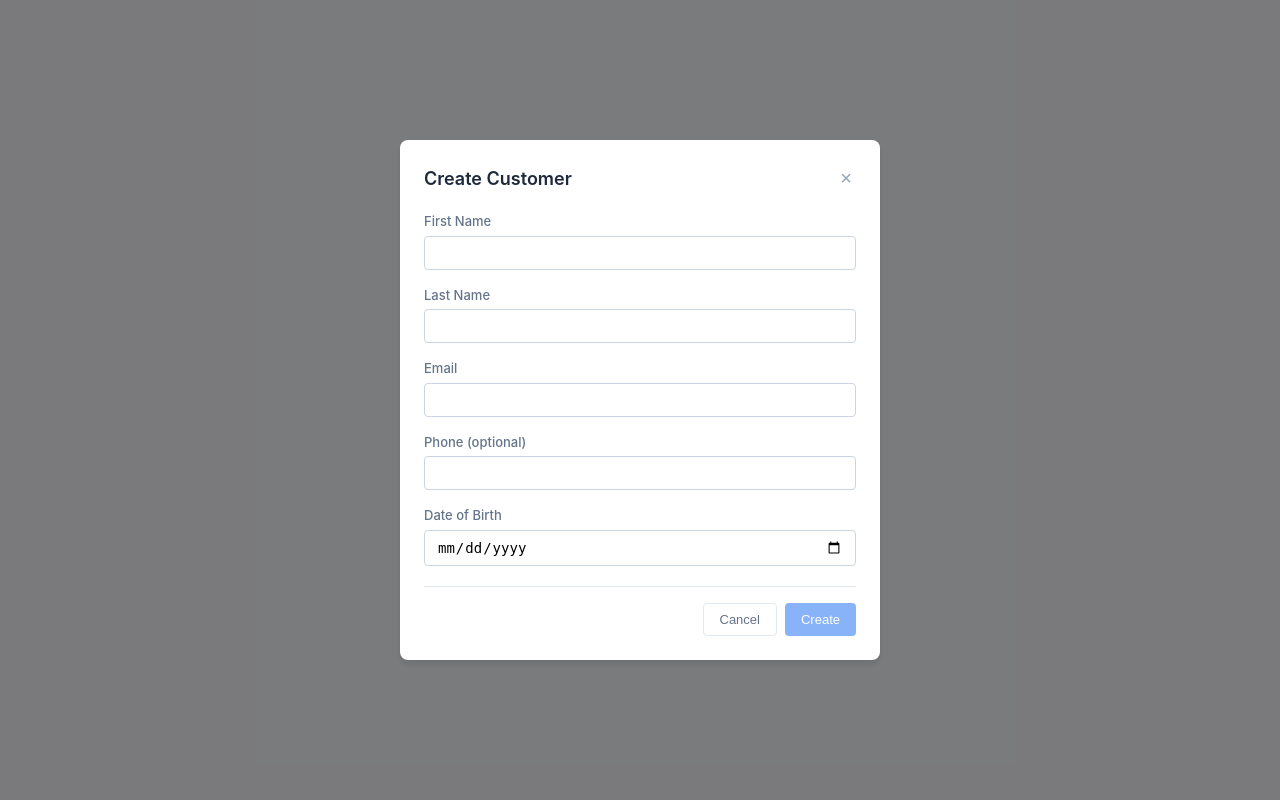
CustomerFormModal › shows error on submit failure
This screenshot has width=1280, height=800.
Type "Bob" into the field labelled "First Name" at (640, 253), box 424,236 -> 856,270
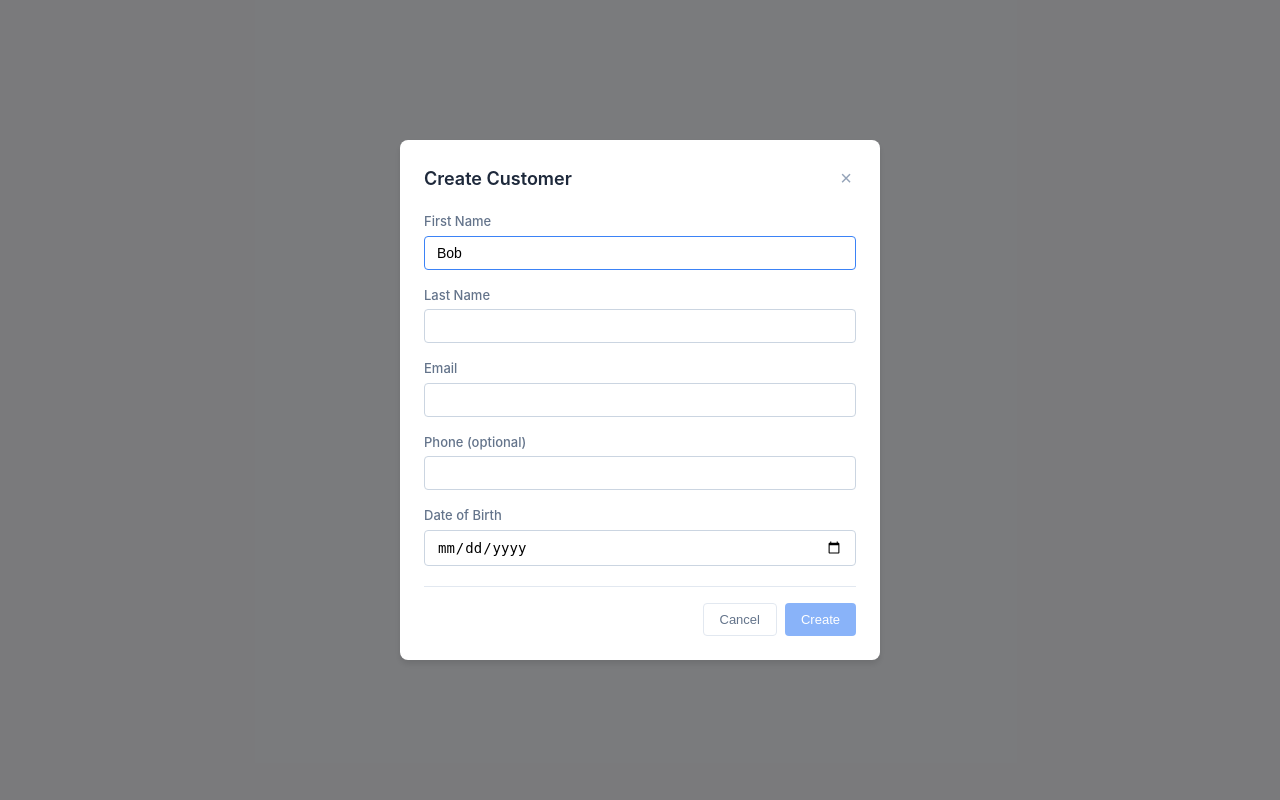
Type "Smith" into the field labelled "Last Name" at (640, 326), box 424,309 -> 856,343
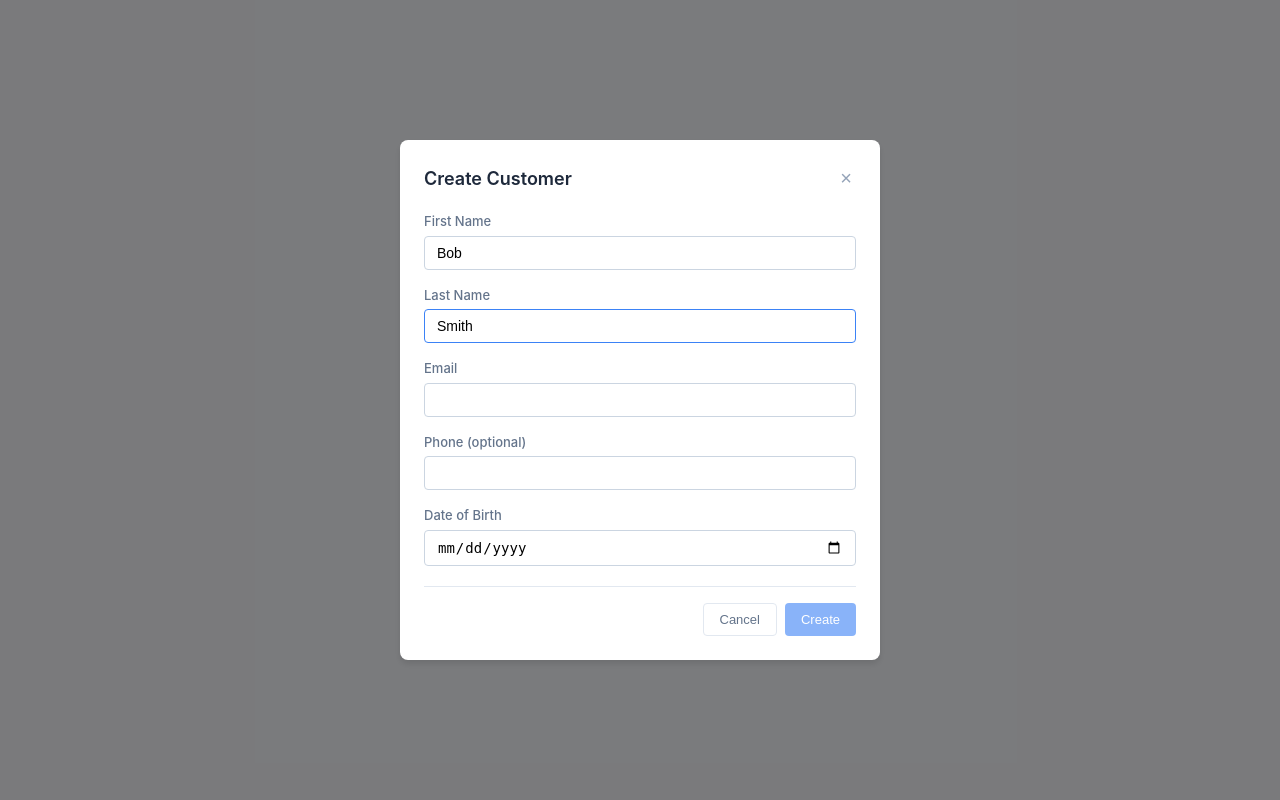
Type "bob@test.com" into the field labelled "Email" at (640, 400), box 424,383 -> 856,417
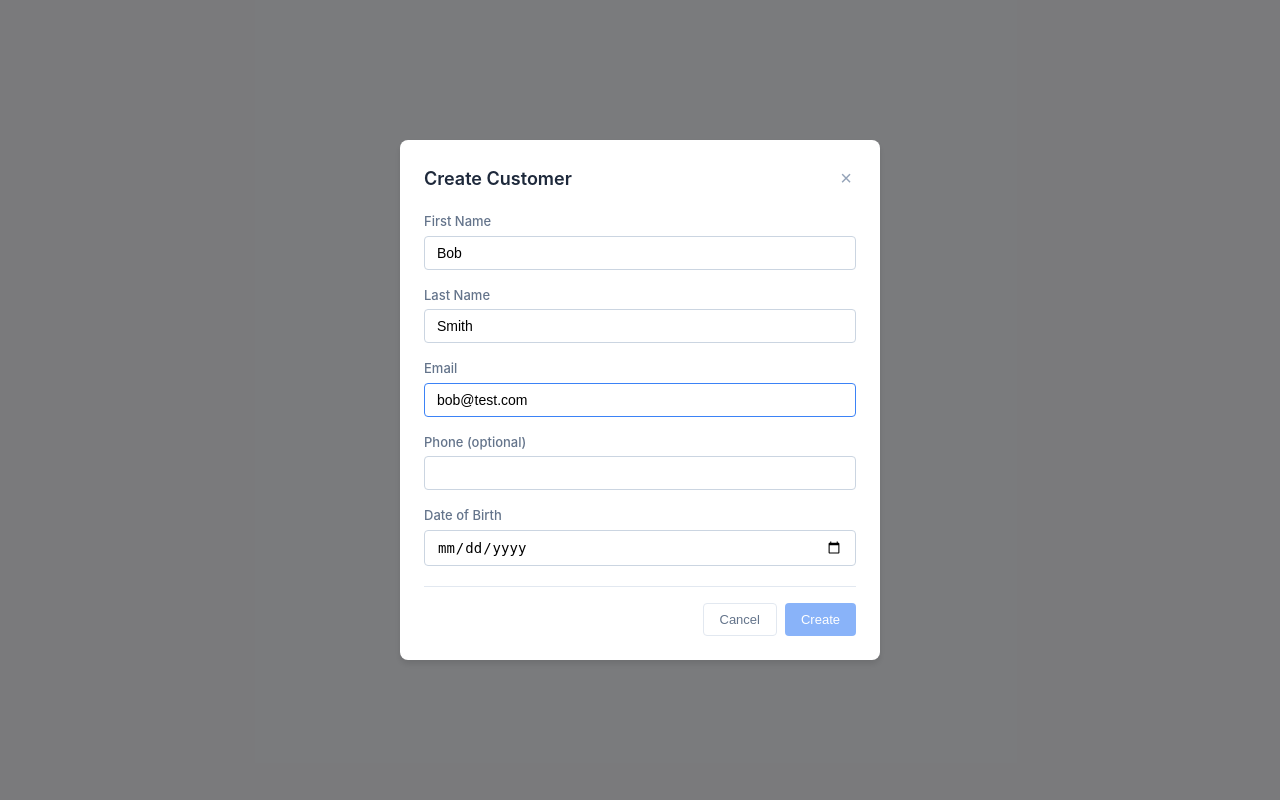
Type "1985-03-20" into the date field labelled "Date of Birth" at (640, 548), box 424,530 -> 856,566
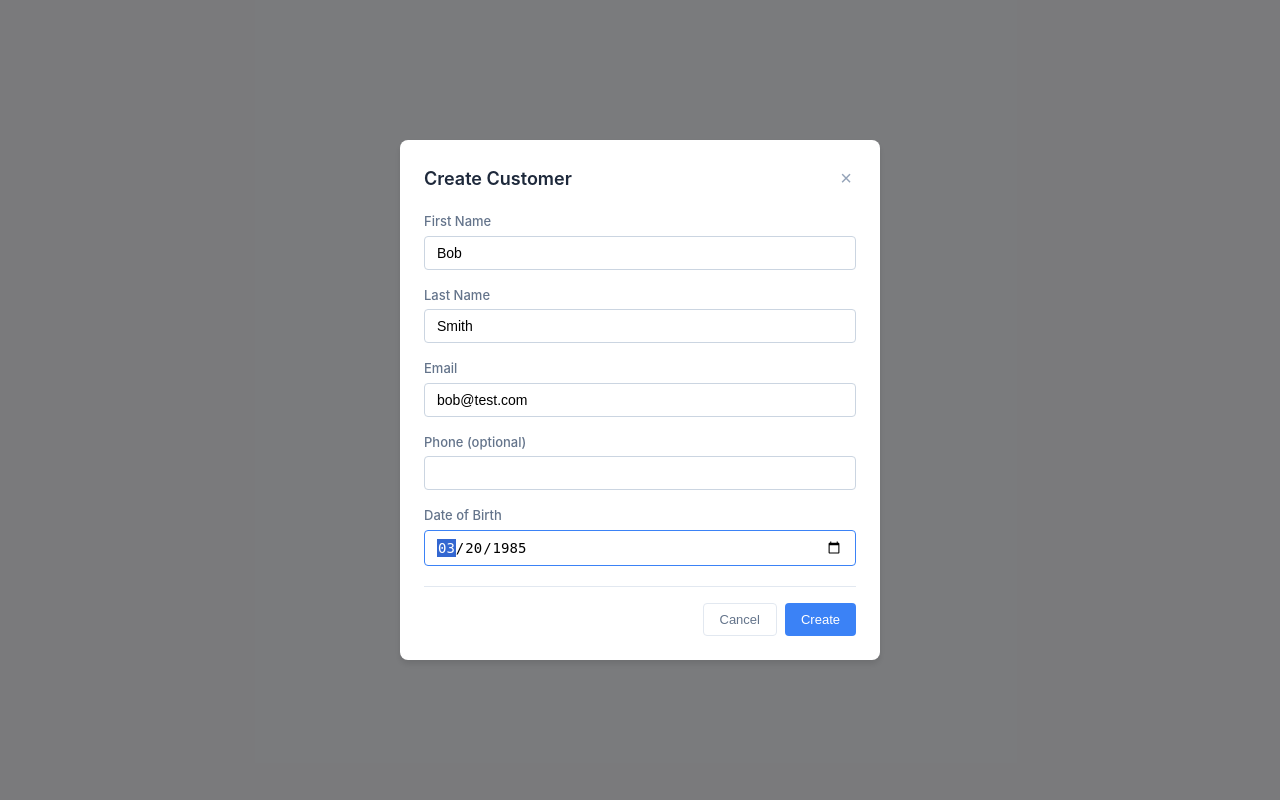
Click the button "Create" at (820, 619), box 785,603 -> 856,636
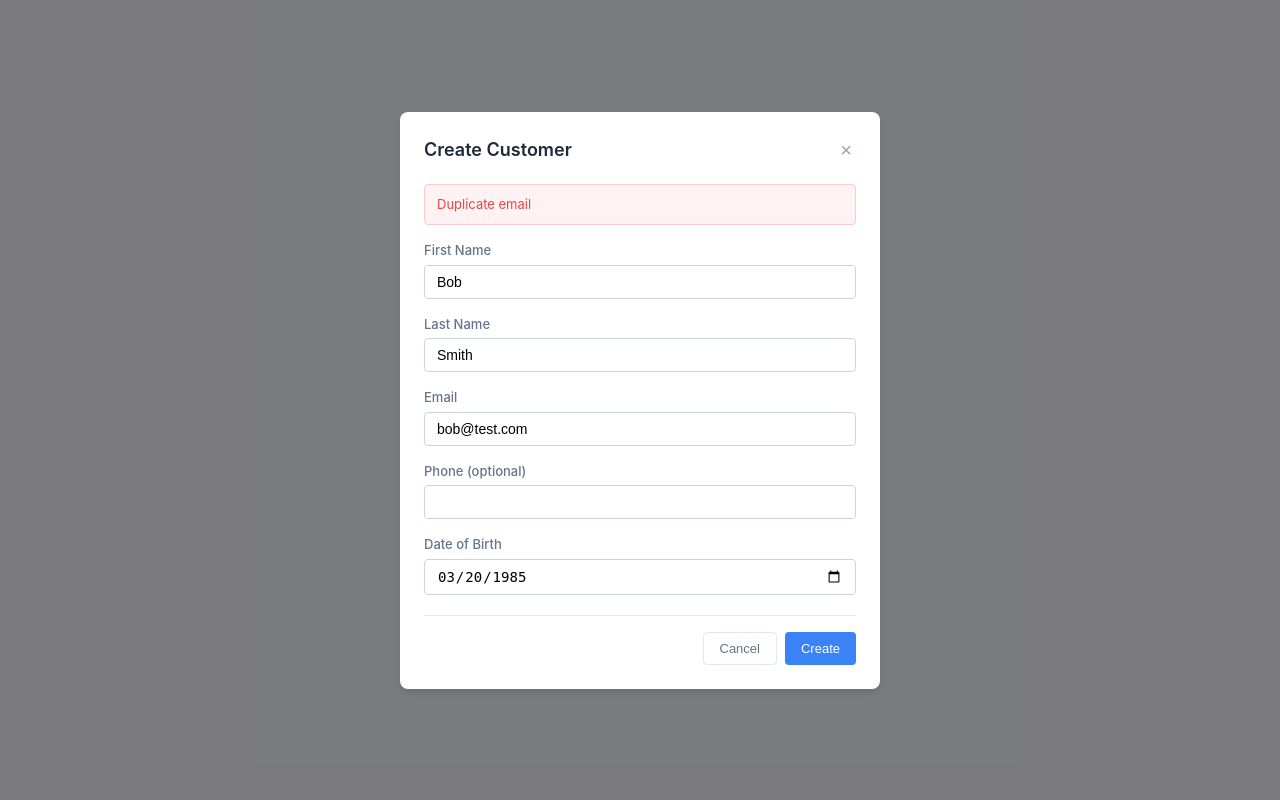
expect the text "Duplicate email" is shown: met, box 424,184 -> 856,225
